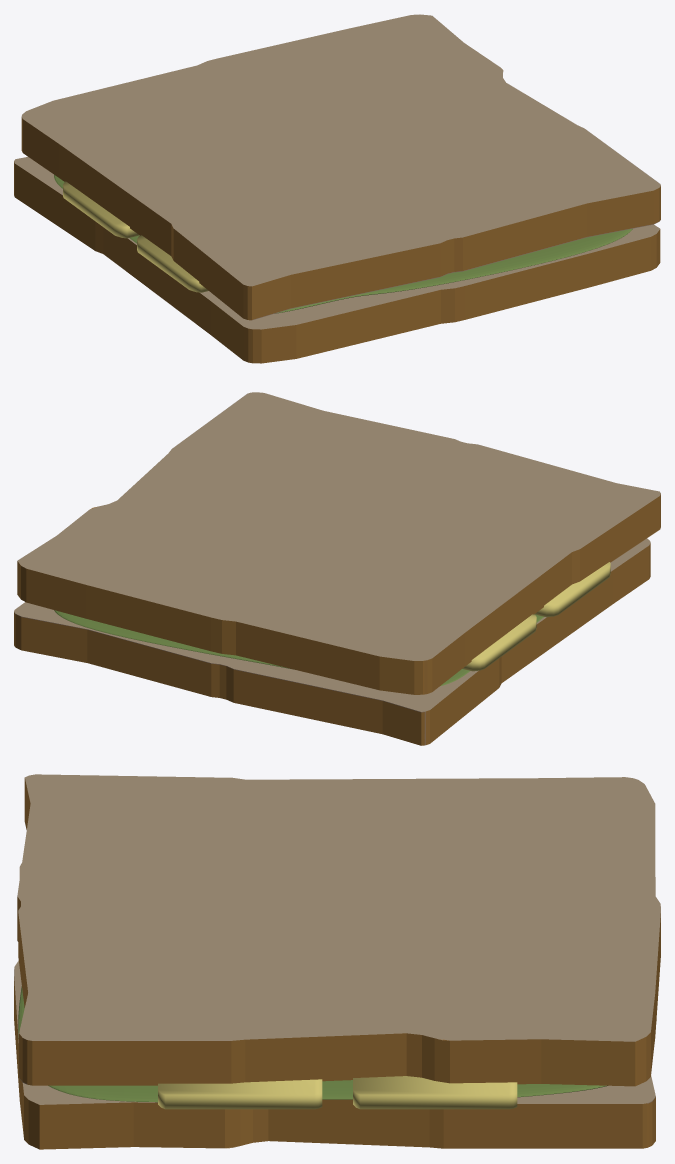
Rendered from completemultigrain.fbx.
The picture shows the model from 3 angles, top to bottom: view 1: azimuth 30°, elevation 25°; view 2: azimuth 150°, elevation 25°; view 3: azimuth 270°, elevation 25°; orthographic projection. The views are drawn at different scales.
Parts seen in each view (by area): view 1: top bread, bottom bread, kaya, Butter Slice 2, Butter Slice; view 2: top bread, bottom bread, kaya, Butter Slice 2, Butter Slice; view 3: top bread, bottom bread, Butter Slice 2, Butter Slice, kaya.
Boxes of the visible parts, left/top/right/bottom form: top bread: left=21, top=14, right=660, bottom=320; bottom bread: left=14, top=157, right=660, bottom=363; kaya: left=54, top=174, right=632, bottom=313; Butter Slice 2: left=63, top=181, right=139, bottom=238; Butter Slice: left=137, top=235, right=208, bottom=292; top bread: left=17, top=392, right=660, bottom=694; bottom bread: left=14, top=538, right=650, bottom=745; kaya: left=54, top=610, right=543, bottom=686; Butter Slice 2: left=462, top=614, right=536, bottom=671; Butter Slice: left=535, top=562, right=610, bottom=617; top bread: left=17, top=774, right=660, bottom=1086; bottom bread: left=14, top=863, right=656, bottom=1149; Butter Slice 2: left=353, top=1076, right=517, bottom=1109; Butter Slice: left=158, top=1079, right=322, bottom=1109; kaya: left=18, top=986, right=607, bottom=1102.
Bounding box in the file's own units: 207 × 36.98 × 203.
Materials: 3 (1 with a texture image).
